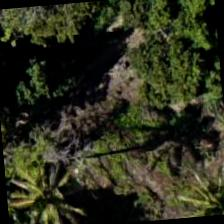Kelapa_Sawit: (3, 151, 99, 223), (170, 159, 223, 219), (172, 160, 223, 219)
